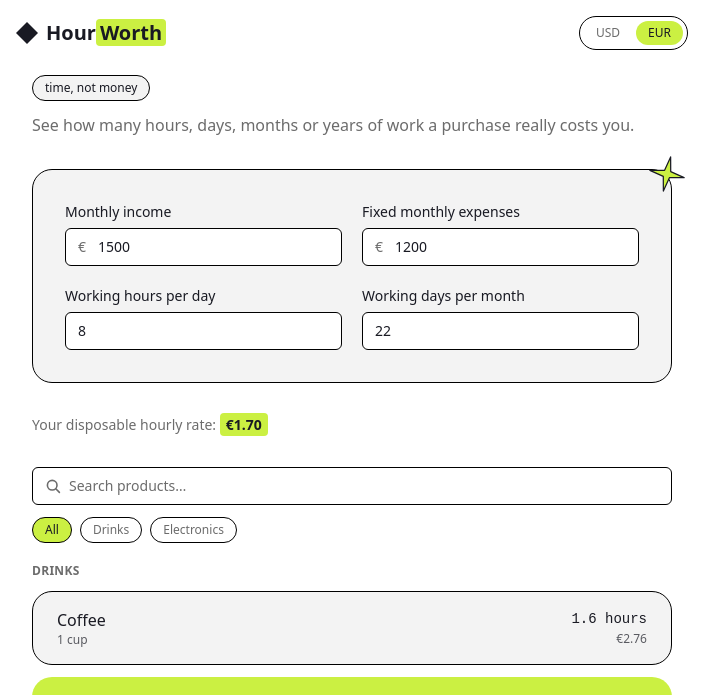
App › shows a validation error and dashes out the rate for an empty field
expect the text "Coffee" is shown: met, box [57,608,106,632]
Clear the number field labelled "Monthly income €" at {"x": 214, "y": 247}, box [86,229,341,265]
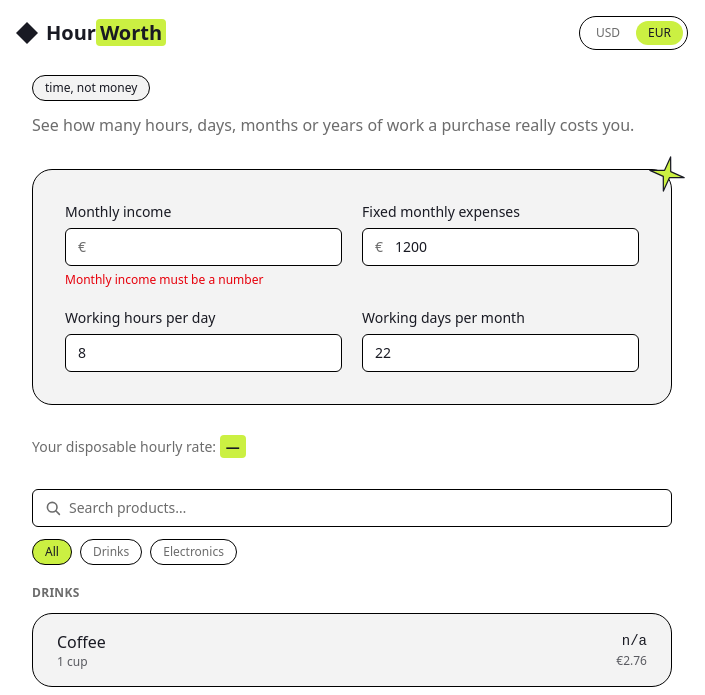
expect the text "Monthly income must be a number" is shown: met, box [65,271,263,288]
expect the text "—" is shown: met, box [220,435,246,458]
